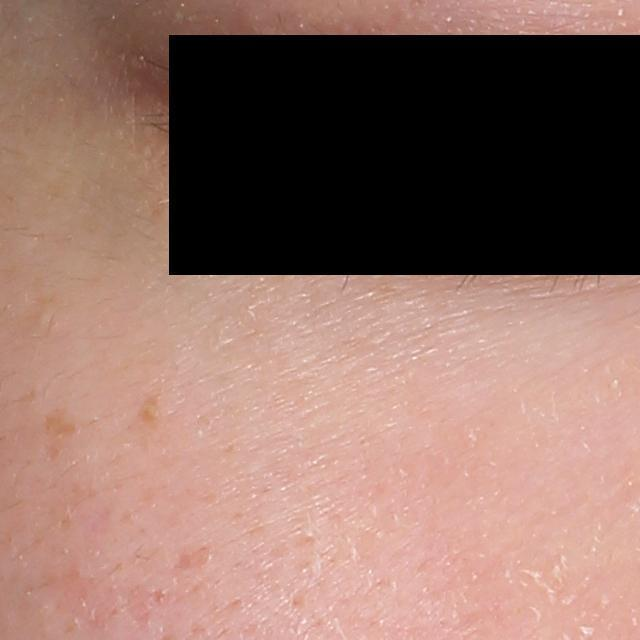melasma: (38, 409, 87, 438), (137, 392, 163, 429)
